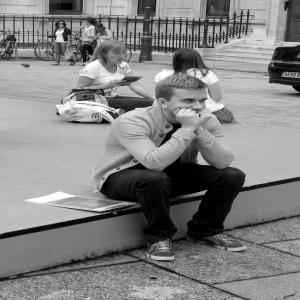Vehicle-registration-plate: (282, 72, 300, 79)
